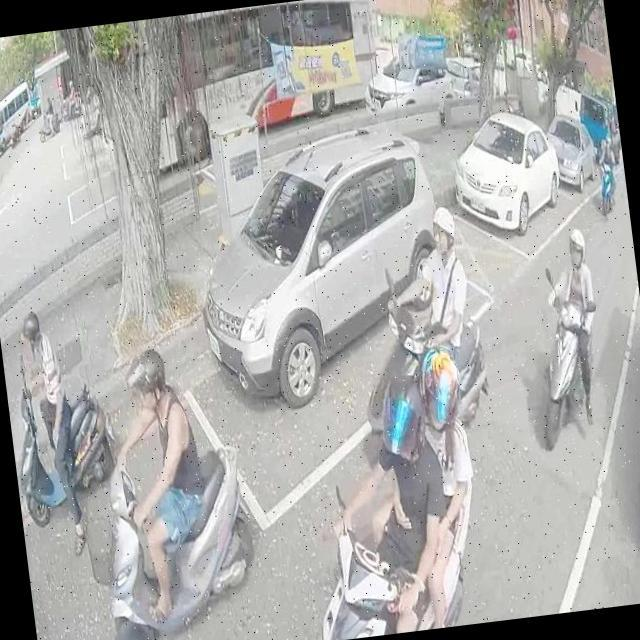person: (348, 323, 498, 634), (302, 354, 464, 640), (98, 338, 220, 634), (11, 308, 86, 551), (522, 223, 608, 433), (376, 198, 478, 375), (593, 136, 618, 208), (106, 609, 164, 640), (41, 94, 57, 134), (8, 116, 18, 136)
